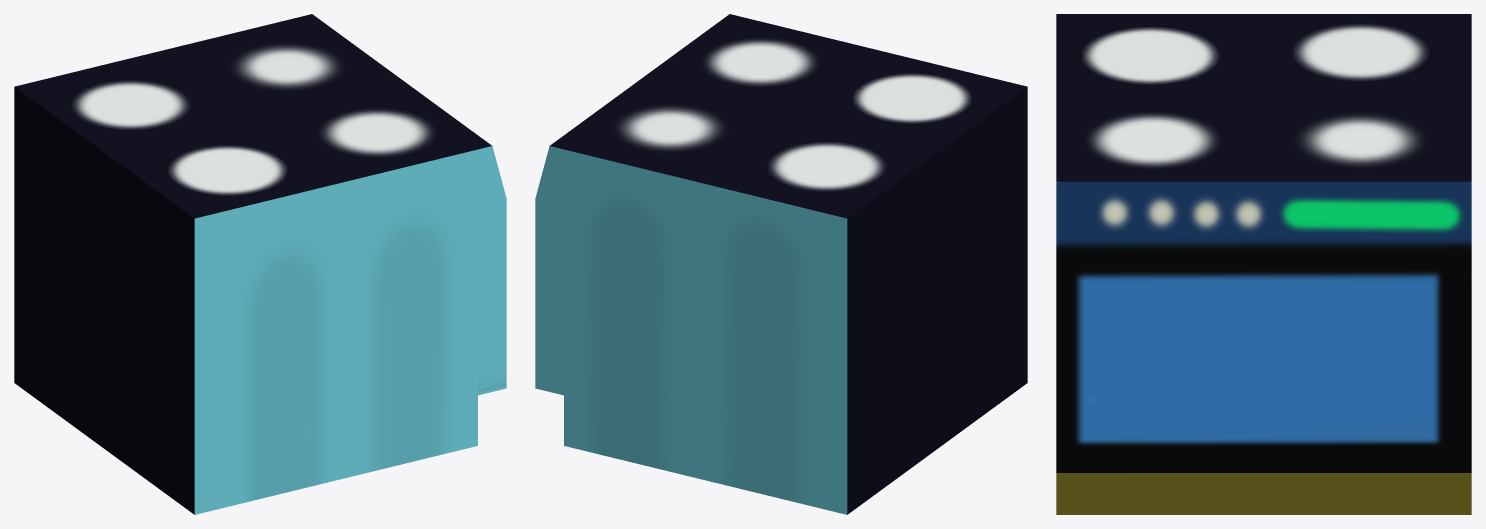
The model's file is Kitchen.fbx.
3 views of the same model, side by side, from view 1: azimuth 30°, elevation 25°; view 2: azimuth 150°, elevation 25°; view 3: azimuth 270°, elevation 25° (orthographic). The views are drawn at different scales.
Visible parts, largest first — view 1: Cube; view 2: Cube; view 3: Cube.
Part boxes in pixels (x1,y1,x2,y2): Cube: [14, 14, 506, 514]; Cube: [535, 14, 1027, 514]; Cube: [1056, 14, 1471, 514].
Bounding box in the file's own units: 220 × 200 × 220.
